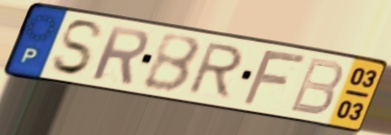B: (139, 32, 202, 95), (286, 55, 347, 118)
F: (238, 49, 311, 108)
R: (89, 23, 151, 87), (183, 41, 248, 101)
S: (49, 18, 106, 78)
